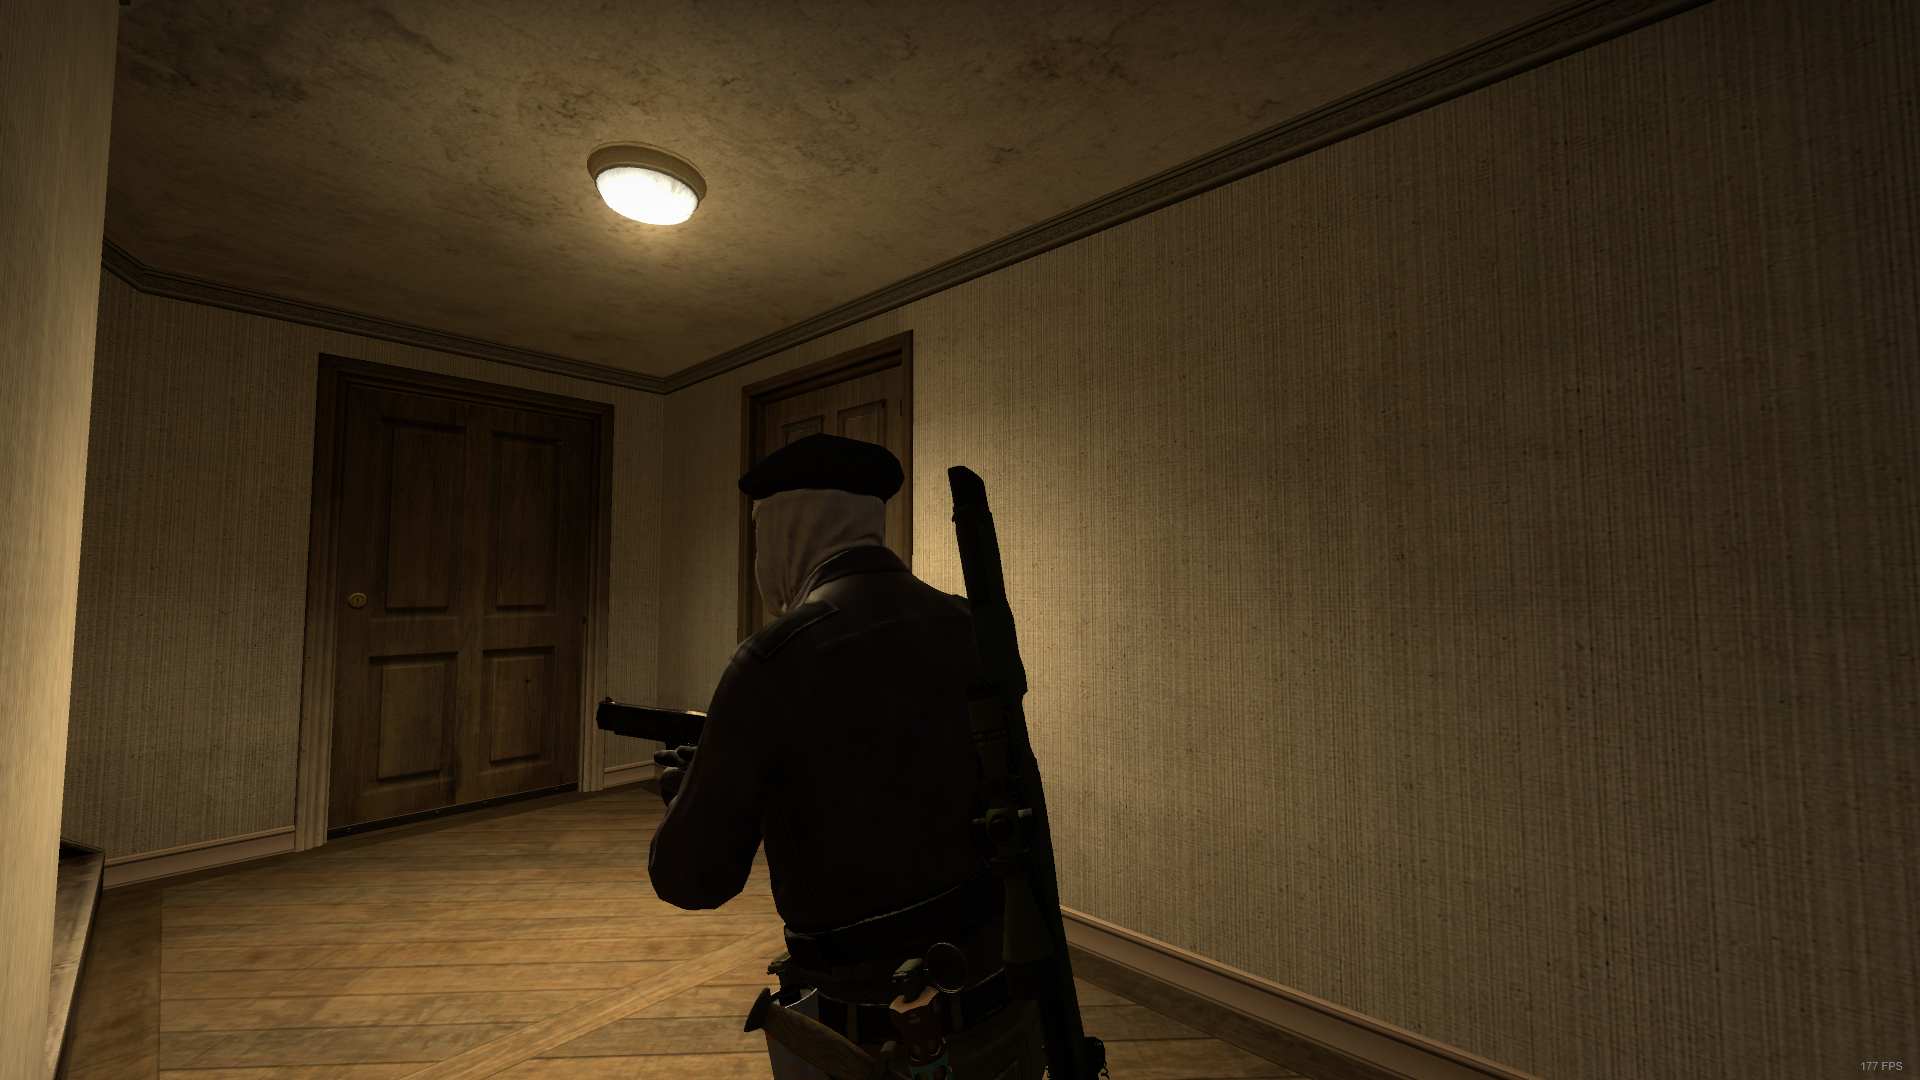t: (663, 435, 1069, 1080)
